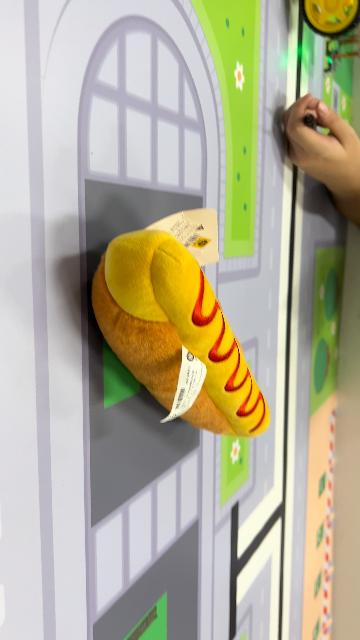hotdog: (91, 228, 273, 440)
